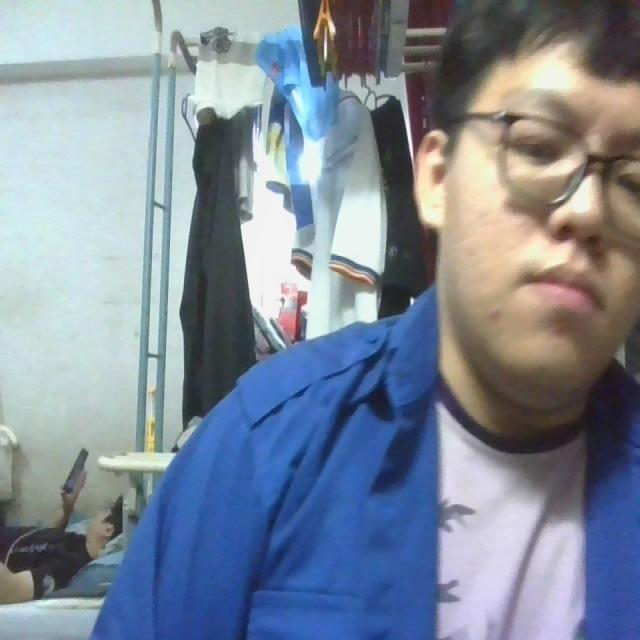person_with_labcoat: (90, 0, 639, 639)
